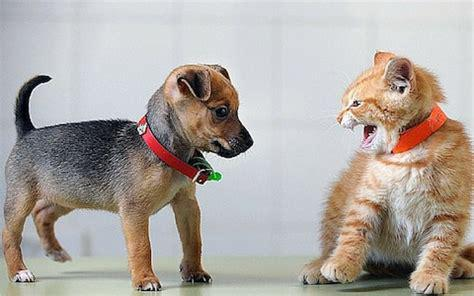cat: (299, 51, 474, 294)
dog: (3, 64, 252, 291)
